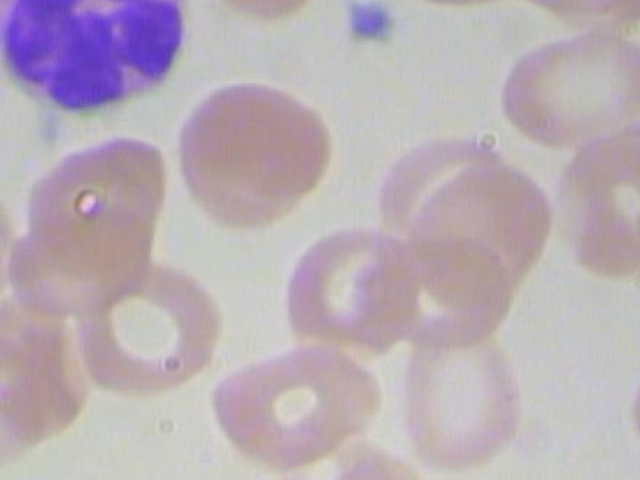Platelets: (340, 0, 398, 48)
RBC: (164, 75, 348, 236), (205, 339, 390, 480), (394, 312, 542, 479), (71, 250, 222, 404), (487, 20, 640, 160), (532, 111, 640, 296), (0, 160, 35, 317), (180, 0, 335, 24), (362, 0, 545, 12), (630, 348, 640, 480)
WBC: (0, 0, 210, 127)
